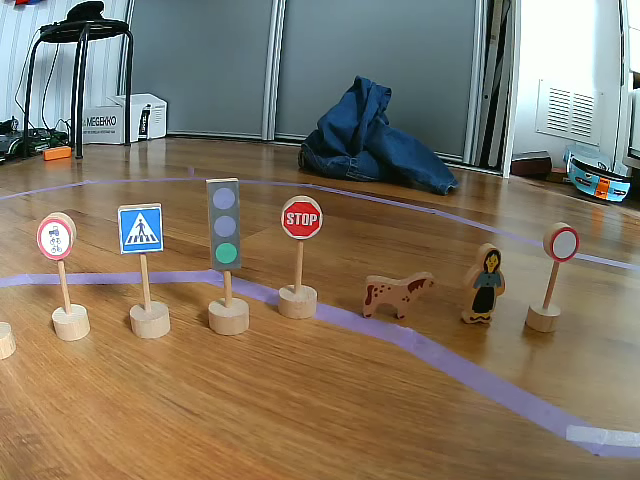fietspad: (39, 216, 72, 261)
groenlicht: (208, 179, 244, 271)
mens: (464, 245, 505, 323)
paard: (361, 272, 440, 319)
stopbord: (281, 199, 323, 238)
wegdicht: (550, 224, 579, 263)
zebrapad: (118, 205, 162, 255)
